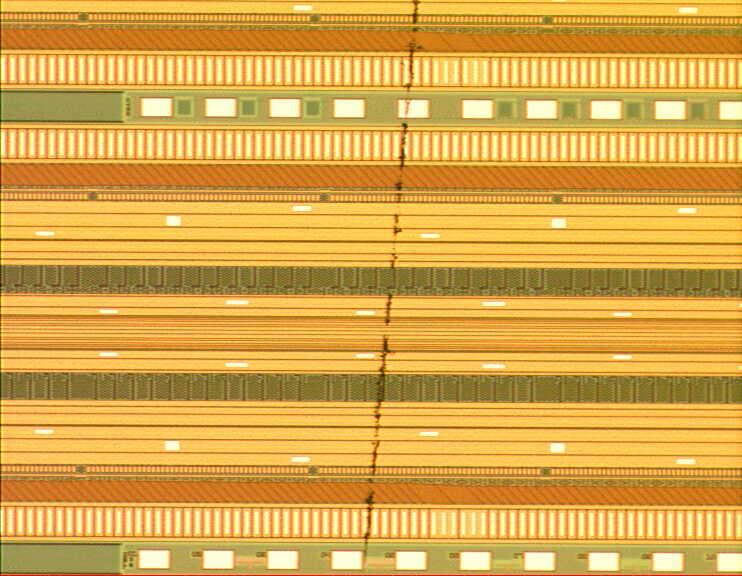SCRATCH: (354, 1, 427, 572)
